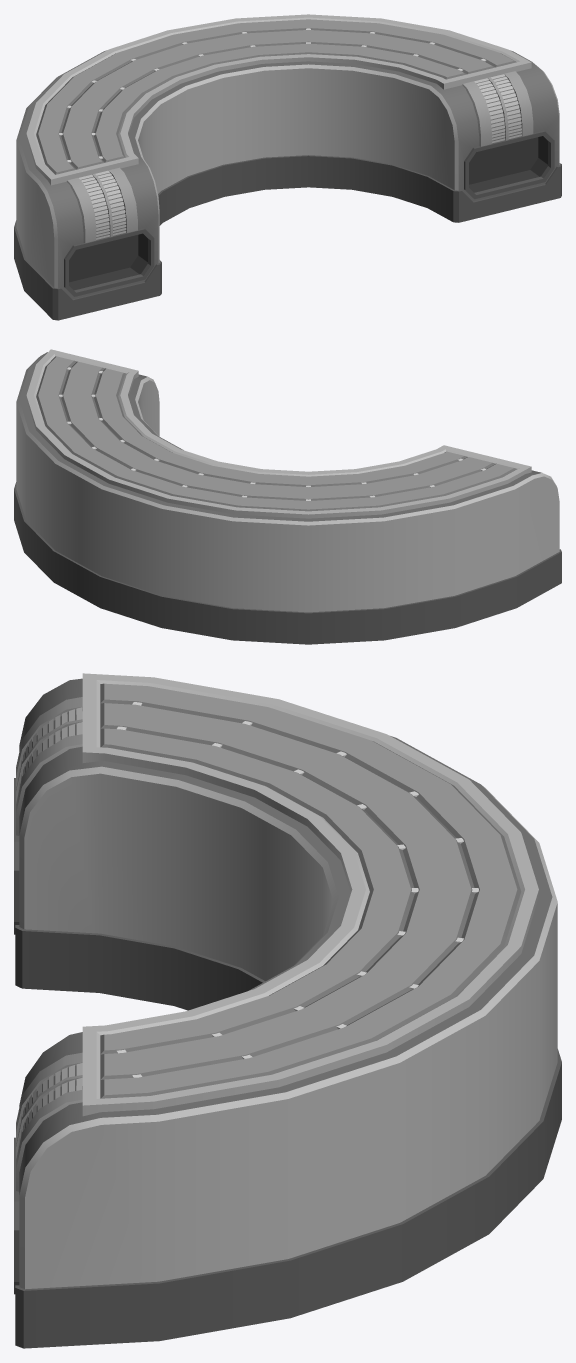
The model's file is space_station_015.fbx.
3 renders of one model, top to bottom at view 1: azimuth 30°, elevation 25°; view 2: azimuth 150°, elevation 25°; view 3: azimuth 270°, elevation 25°, orthographic. The views are drawn at different scales.
Visible parts, largest first — view 1: space_station_015; view 2: space_station_015; view 3: space_station_015.
Boxes of the visible parts, <box> form: space_station_015: <box>14,14,561,320</box>; space_station_015: <box>14,349,561,644</box>; space_station_015: <box>14,673,561,1348</box>.
Bounding box in the file's own units: 6520 × 3297 × 1528.
